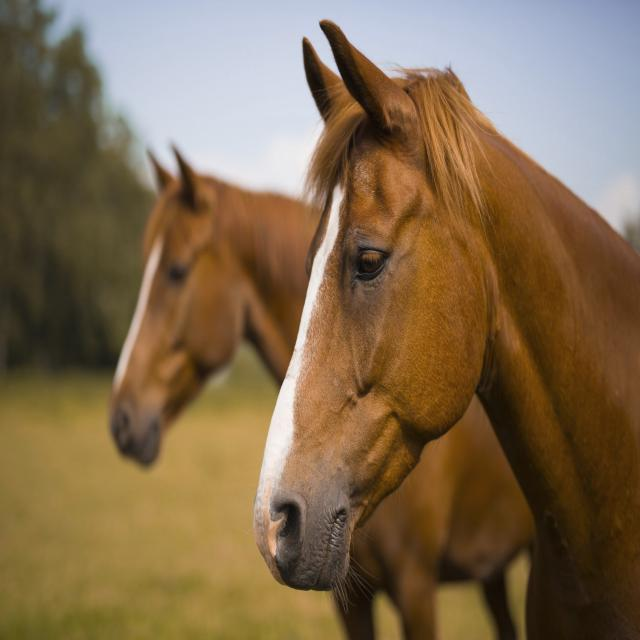horse: (254, 20, 640, 638), (109, 150, 318, 465)
